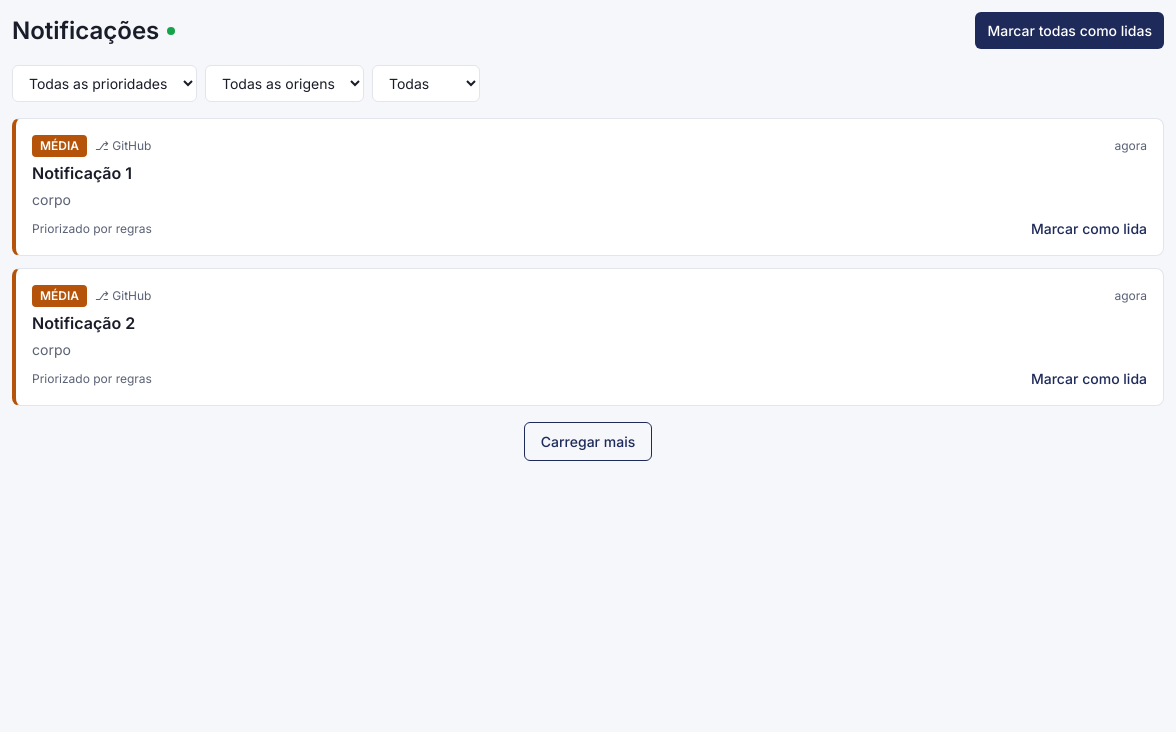
Test: NotificationsPage — paginação › notificação nova em tempo real entra no topo sem perder as páginas
Expected: the heading "Notificação 1" is shown, 32,163 -> 132,183
Click the button "Carregar mais" at (588, 442), box 524,422 -> 652,461
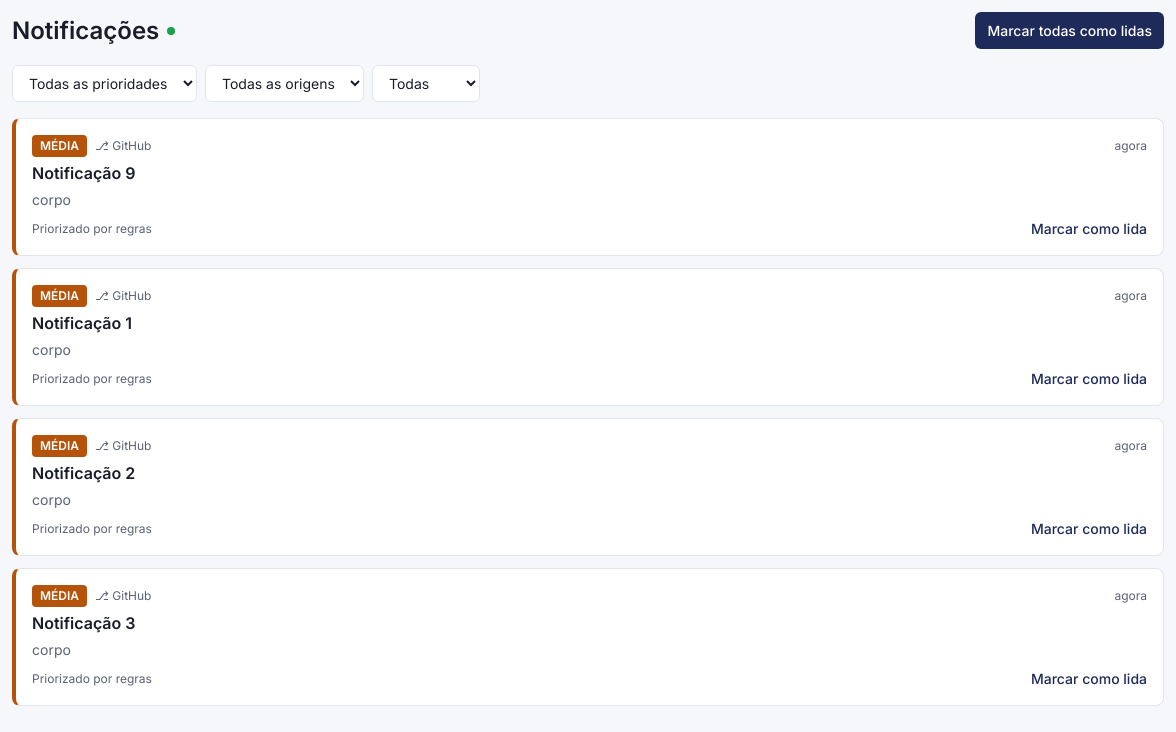
Now the heading "Notificação 3" is shown, box 32,613 -> 136,633
Now the number of elements with test id "notification-card" is 4, box 12,118 -> 1164,256; 12,268 -> 1164,406; 12,418 -> 1164,556; 12,568 -> 1164,706
Now the element with test id "notification-card" shows "Notificação 9", box 32,163 -> 136,183
